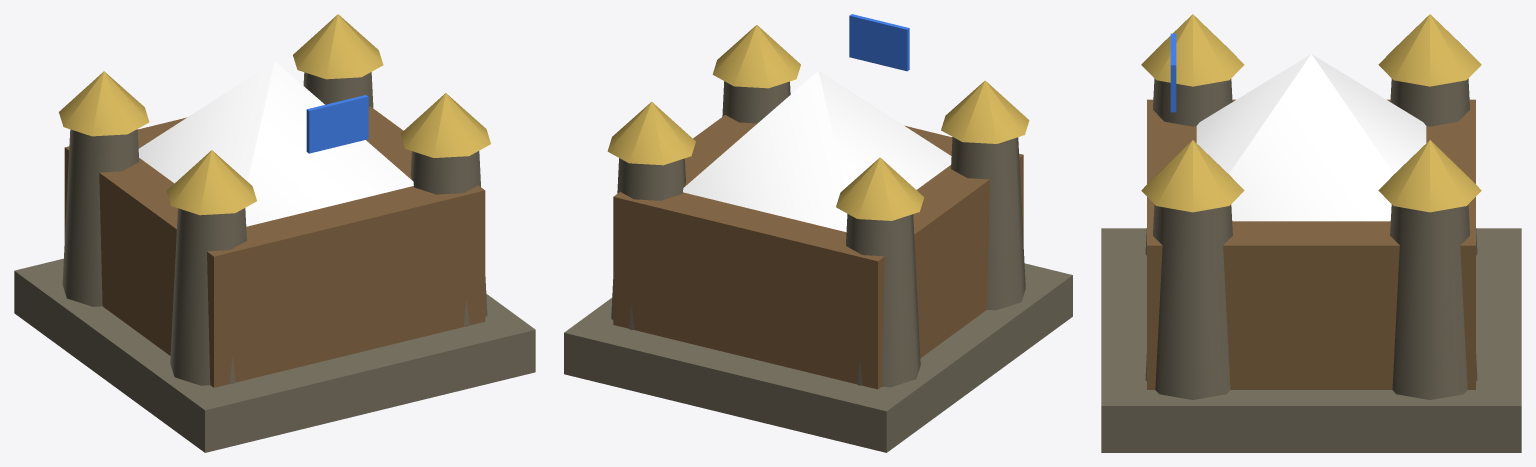
File: castle.glb
The picture shows the model from 3 angles, left to right: view 1: azimuth 30°, elevation 25°; view 2: azimuth 150°, elevation 25°; view 3: azimuth 270°, elevation 25°; orthographic projection. The views are drawn at different scales.
Visible parts, largest first — view 1: castle-main-block, castle-stone-footprint, castle-gold-roof, castle-corner-tower-0, castle-corner-tower-2, castle-corner-tower-roof-3, castle-corner-tower-roof-2, castle-corner-tower-roof-0, castle-corner-tower-roof-1, castle-team-standard, castle-corner-tower-1, castle-corner-tower-3; view 2: castle-main-block, castle-stone-footprint, castle-gold-roof, castle-corner-tower-2, castle-corner-tower-0, castle-corner-tower-roof-2, castle-corner-tower-roof-0, castle-corner-tower-roof-3, castle-corner-tower-roof-1, castle-team-standard, castle-corner-tower-3, castle-corner-tower-1; view 3: castle-stone-footprint, castle-main-block, castle-gold-roof, castle-corner-tower-1, castle-corner-tower-3, castle-corner-tower-roof-2, castle-corner-tower-roof-1, castle-corner-tower-roof-3, castle-corner-tower-roof-0, castle-corner-tower-2, castle-corner-tower-0, castle-team-standard.
Part boxes in pixels (bbox=[...]): castle-main-block: bbox=[64, 106, 485, 387]; castle-stone-footprint: bbox=[14, 258, 535, 452]; castle-gold-roof: bbox=[138, 61, 413, 226]; castle-corner-tower-0: bbox=[170, 208, 246, 385]; castle-corner-tower-2: bbox=[62, 129, 139, 306]; castle-corner-tower-roof-3: bbox=[293, 14, 383, 79]; castle-corner-tower-roof-2: bbox=[59, 71, 149, 136]; castle-corner-tower-roof-0: bbox=[166, 150, 256, 215]; castle-corner-tower-roof-1: bbox=[400, 93, 490, 157]; castle-team-standard: bbox=[306, 95, 368, 153]; castle-corner-tower-1: bbox=[410, 151, 487, 326]; castle-corner-tower-3: bbox=[303, 72, 373, 107]; castle-main-block: bbox=[613, 115, 1023, 389]; castle-stone-footprint: bbox=[564, 263, 1072, 452]; castle-gold-roof: bbox=[683, 70, 951, 232]; castle-corner-tower-2: bbox=[846, 214, 920, 387]; castle-corner-tower-0: bbox=[951, 137, 1025, 310]; castle-corner-tower-roof-2: bbox=[836, 157, 924, 220]; castle-corner-tower-roof-0: bbox=[941, 80, 1029, 143]; castle-corner-tower-roof-3: bbox=[607, 101, 695, 165]; castle-corner-tower-roof-1: bbox=[712, 25, 800, 88]; castle-team-standard: bbox=[849, 14, 909, 71]; castle-corner-tower-3: bbox=[611, 158, 685, 329]; castle-corner-tower-1: bbox=[722, 81, 790, 123]; castle-stone-footprint: bbox=[1101, 228, 1521, 452]; castle-main-block: bbox=[1147, 99, 1475, 389]; castle-gold-roof: bbox=[1196, 54, 1426, 221]; castle-corner-tower-1: bbox=[1145, 204, 1232, 399]; castle-corner-tower-3: bbox=[1390, 204, 1477, 399]; castle-corner-tower-roof-2: bbox=[1378, 14, 1481, 86]; castle-corner-tower-roof-1: bbox=[1141, 140, 1244, 212]; castle-corner-tower-roof-3: bbox=[1378, 140, 1481, 212]; castle-corner-tower-roof-0: bbox=[1141, 14, 1244, 86]; castle-corner-tower-2: bbox=[1390, 78, 1477, 255]; castle-corner-tower-0: bbox=[1145, 78, 1232, 255]; castle-team-standard: bbox=[1170, 33, 1176, 112].
Size of the model in its own units: 3.9 by 3.22 by 3.9.
